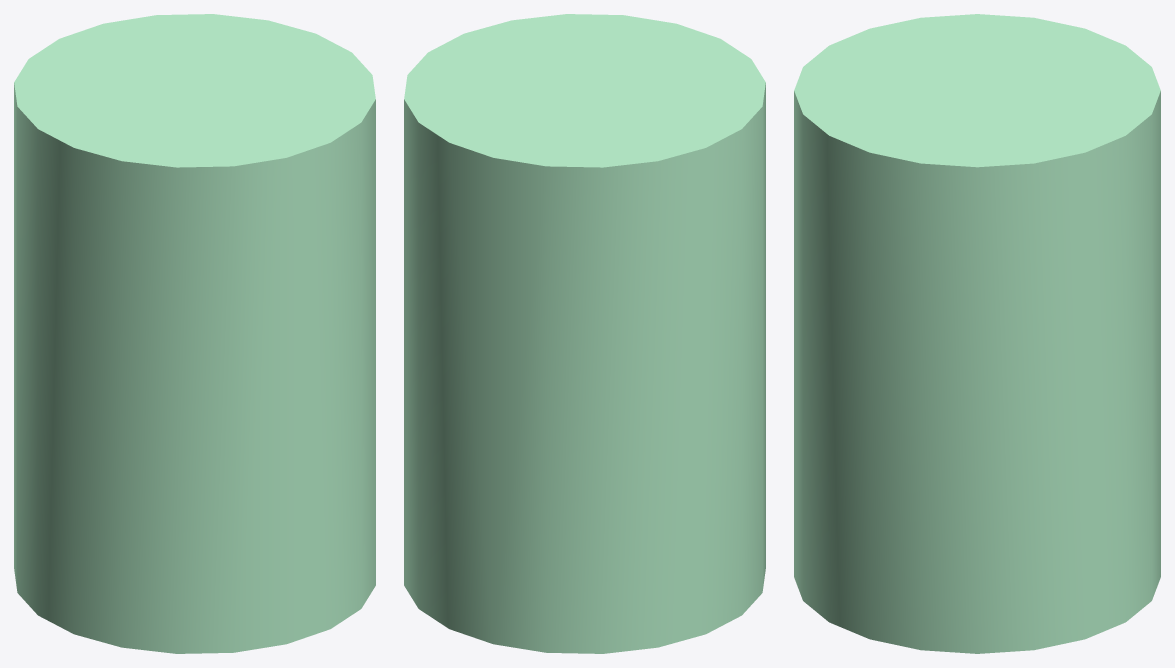
The model's file is Barrelrusted3.fbx.
The picture shows the model from 3 angles, left to right: view 1: azimuth 30°, elevation 25°; view 2: azimuth 150°, elevation 25°; view 3: azimuth 270°, elevation 25°; orthographic projection.
Parts seen in each view (by area): view 1: 55gdrum1_ref; view 2: 55gdrum1_ref; view 3: 55gdrum1_ref.
Part boxes in pixels (bbox=[...]): 55gdrum1_ref: bbox=[14, 14, 375, 653]; 55gdrum1_ref: bbox=[404, 14, 765, 653]; 55gdrum1_ref: bbox=[794, 14, 1160, 653].
Size of the model in its own units: 136 by 201 by 137.
